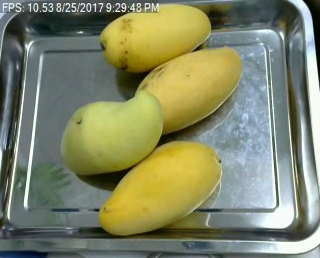Mango: (99, 139, 222, 236), (135, 46, 243, 133), (59, 90, 163, 175), (99, 4, 212, 70)
